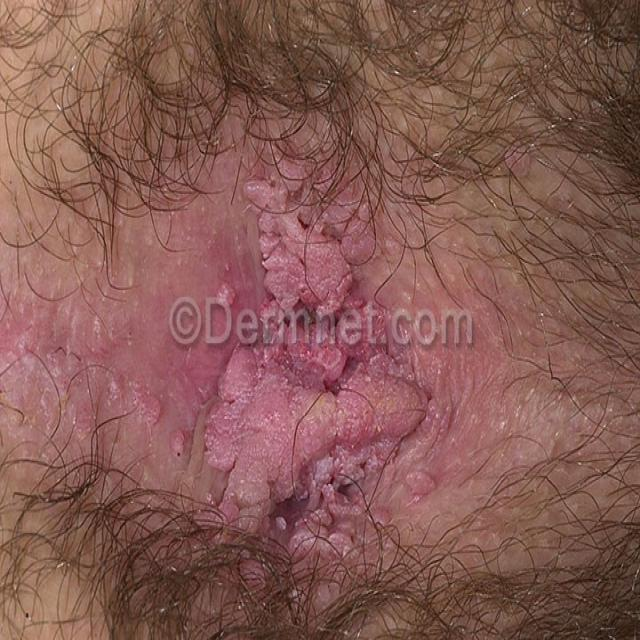Shingles: (181, 165, 434, 560)
